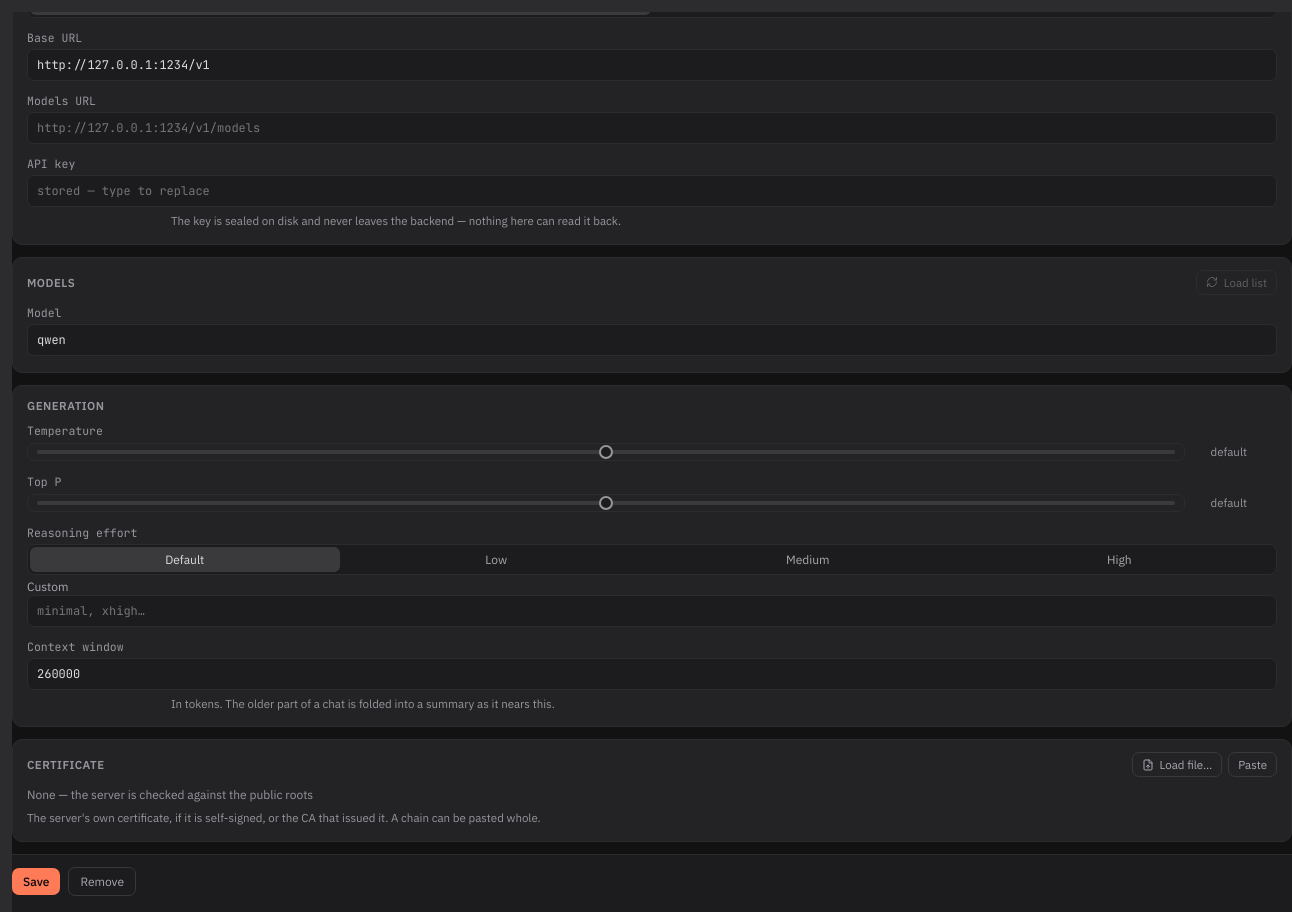
it: saving › and the form says it was stored
This screenshot has width=1292, height=912.
(page scrolled)
Expected: the text "Saved." is not shown
Click the button "Save". click: point(36, 882)
box: [12,868,60,895]
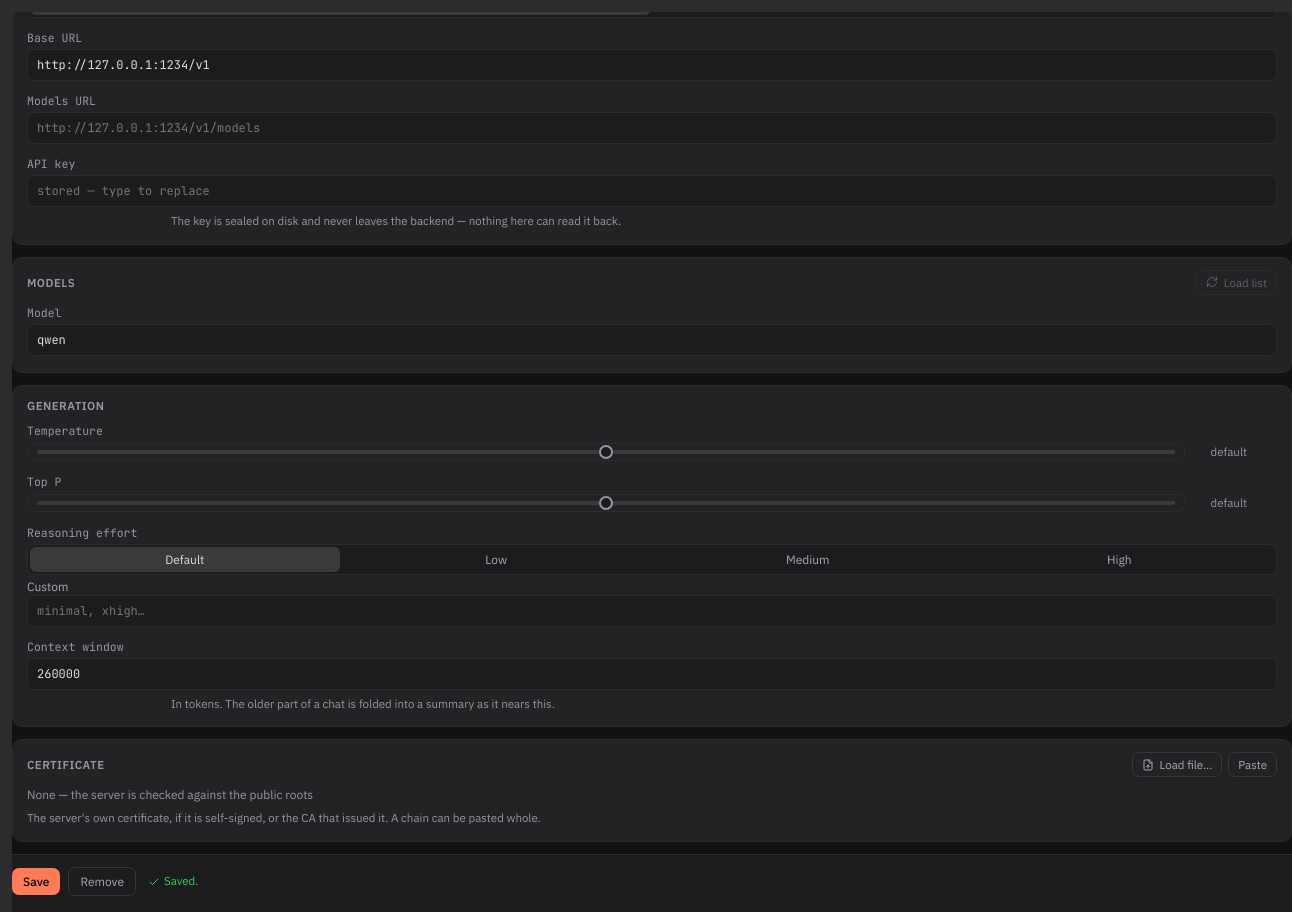
Expected: the text "Saved." is shown, [148,873,198,890]
